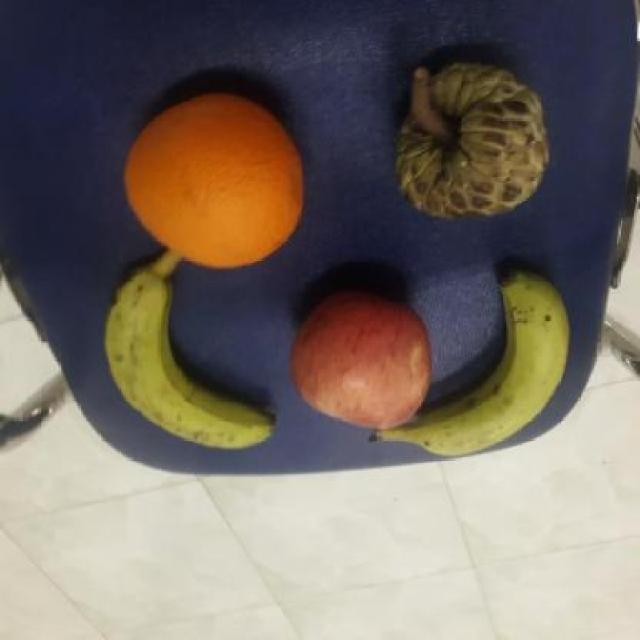apple: (290, 291, 432, 429)
banana: (370, 272, 572, 458), (100, 270, 278, 450)
oren: (122, 94, 302, 271)
sugar apple: (394, 64, 551, 221)
